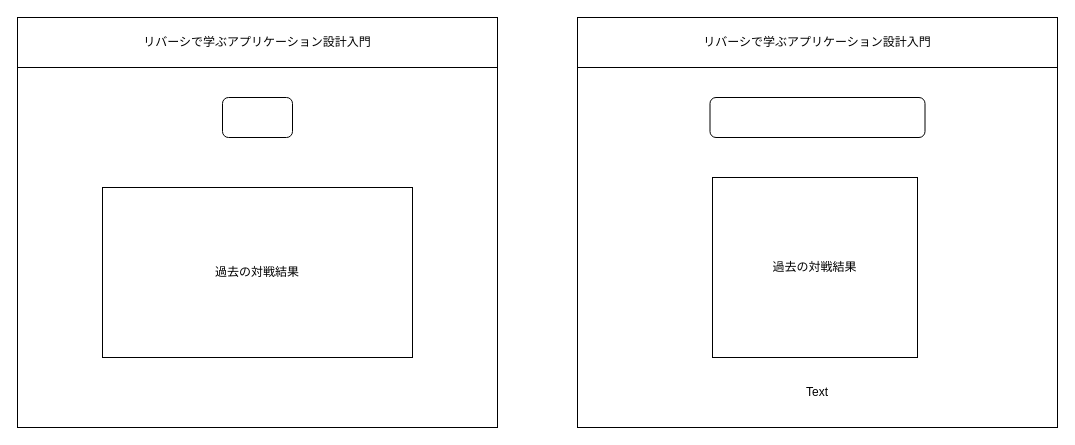
Some shapes in this 1075 by 445 pixel diagram are drawn without their labels. Here are the shapes that lost their labels. From the top down, the centre of each, then its label:
(x=257, y=117): 対戦する
(x=817, y=117): 白の番はスキップです
